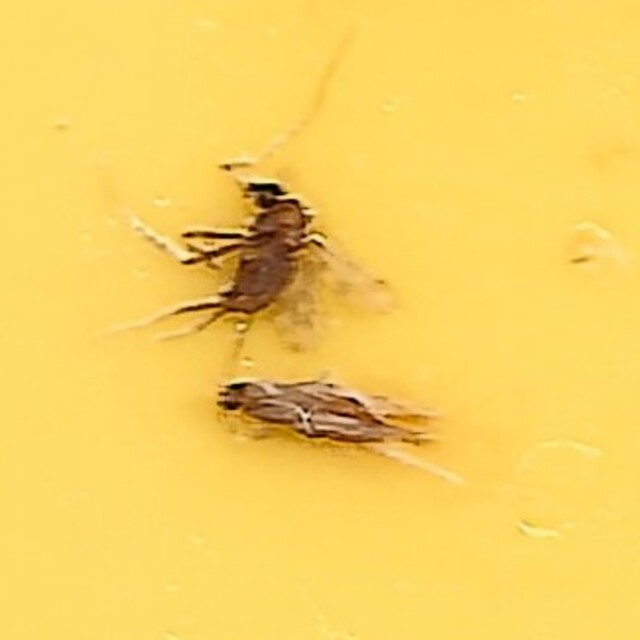Nematocera: (197, 173, 404, 348)
Trichoptera: (209, 362, 443, 467)
